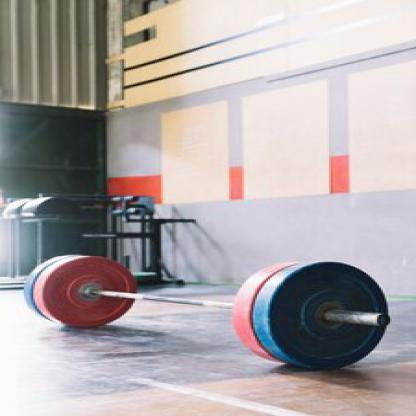barbell: (22, 250, 393, 374)
